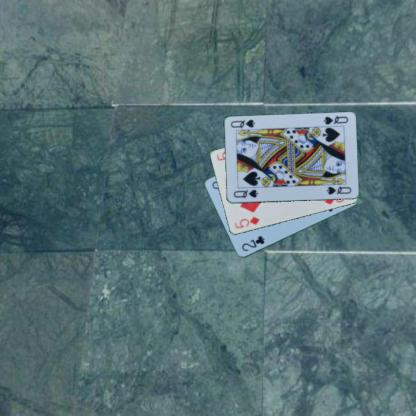2c: (239, 234, 266, 252)
5d: (232, 214, 260, 230)
Qs: (321, 113, 349, 126), (231, 188, 259, 200)
